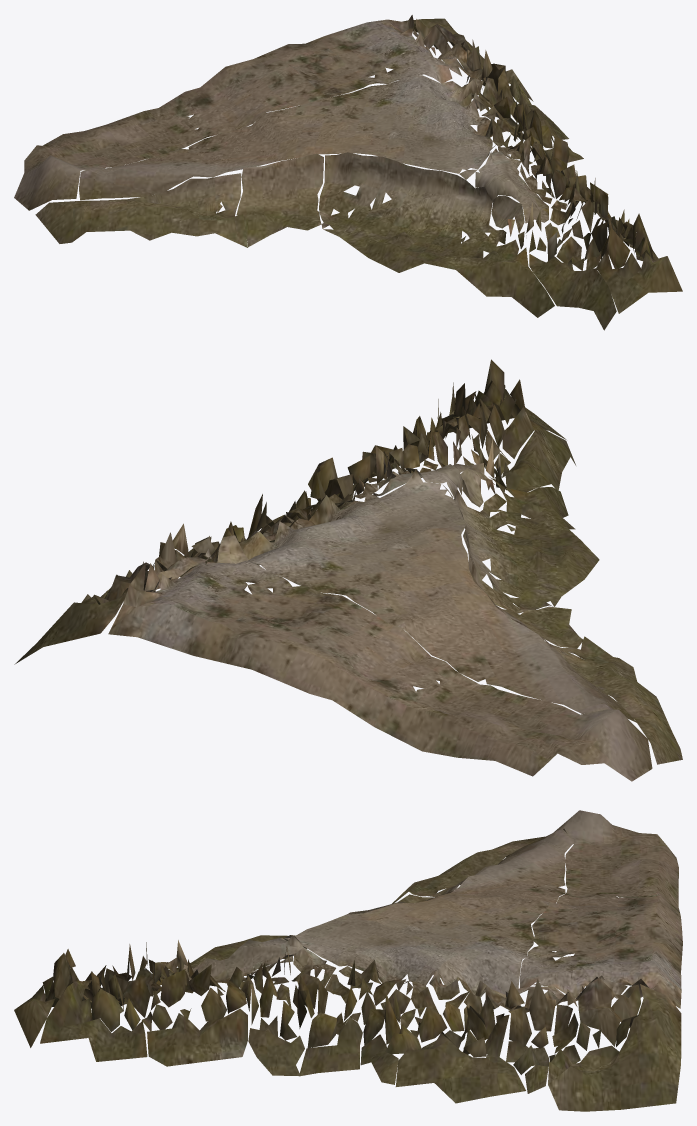
Rendered from Coastal_Basalt.glb.
3 views of the same model, one above another, from view 1: azimuth 30°, elevation 25°; view 2: azimuth 150°, elevation 25°; view 3: azimuth 270°, elevation 25° (orthographic). The views are drawn at different scales.
Visible parts, largest first — view 1: coast_rocks_02; view 2: coast_rocks_02; view 3: coast_rocks_02.
Part boxes in pixels (bbox=[...]): coast_rocks_02: bbox=[14, 15, 682, 330]; coast_rocks_02: bbox=[14, 359, 682, 781]; coast_rocks_02: bbox=[14, 810, 682, 1111].
Bounding box in the file's own units: 5.58 × 1.16 × 5.99.
1 material, 1 textured.
